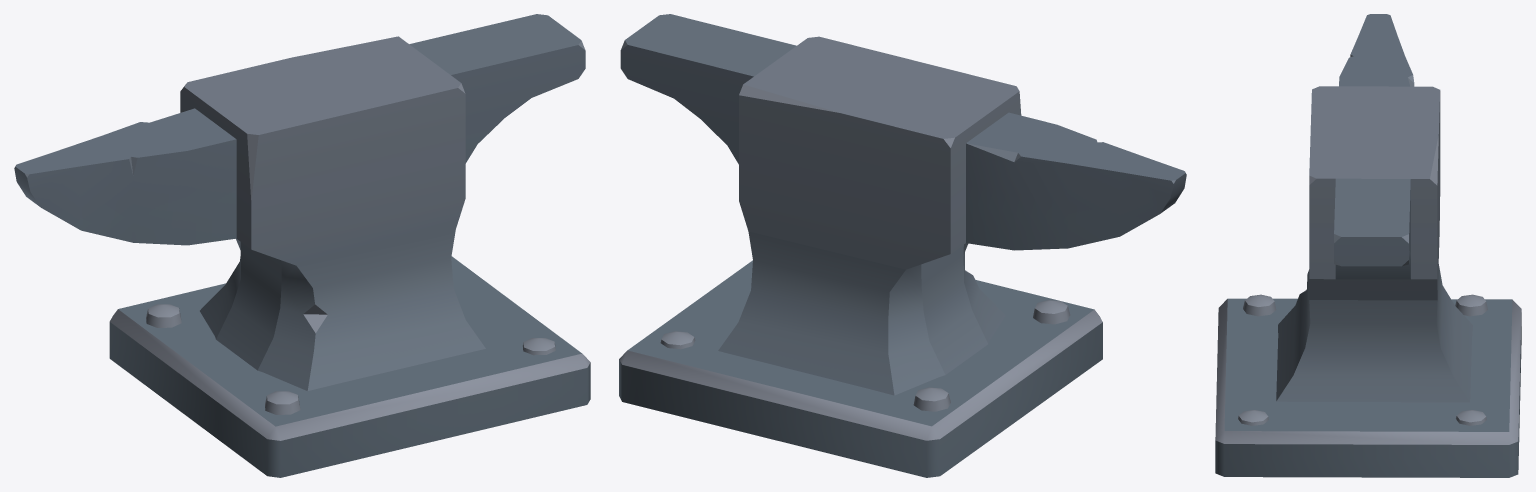
Rendered from Ivory_C.glb.
3 renders of one model, left to right at view 1: azimuth 30°, elevation 25°; view 2: azimuth 150°, elevation 25°; view 3: azimuth 270°, elevation 25°, orthographic. The views are drawn at different scales.
Parts seen in each view (by area): view 1: Ivory_C; view 2: Ivory_C; view 3: Ivory_C.
Part boxes in pixels (x1=…): Ivory_C: x1=14, y1=14, x2=590, y2=477; Ivory_C: x1=619, y1=14, x2=1186, y2=477; Ivory_C: x1=1215, y1=14, x2=1521, y2=477.
Bounding box in the file's own units: 0.7423 × 0.3896 × 0.4085.
1 material, 1 textured.
